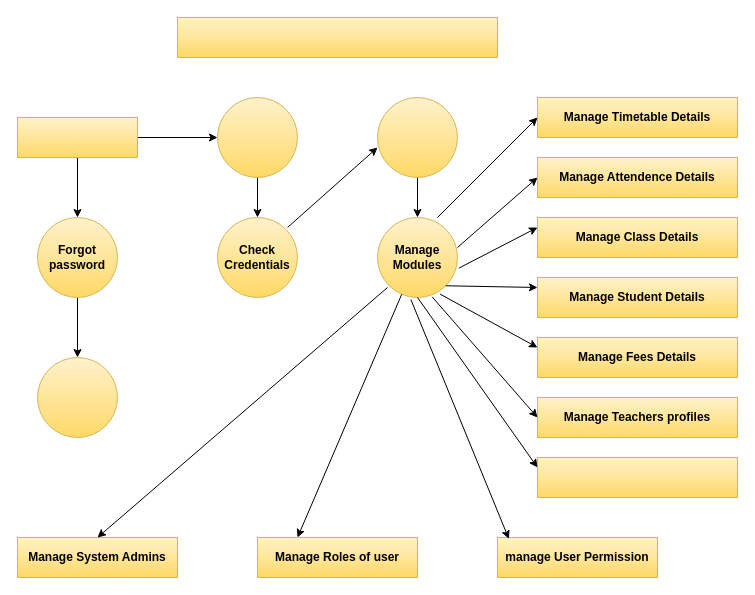
The diagram is 755 pixels wide and 595 high, and some of its shapes have lost their labels. Each missing label, with the box of its shape:
Admin: (16, 116, 138, 158)
Check Roles of Access: (376, 96, 458, 178)
Login to System: (216, 96, 298, 178)
Manage Report: (536, 456, 738, 498)
Send Email to User: (36, 356, 118, 438)
Student Information System: (176, 16, 498, 58)
